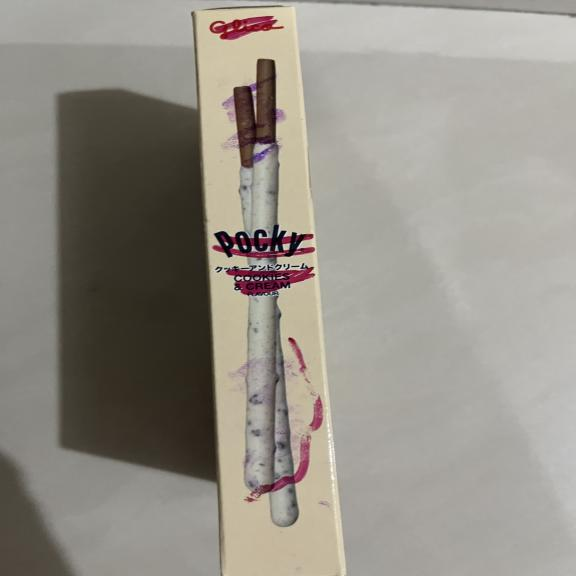Kertas: (190, 8, 348, 576)
